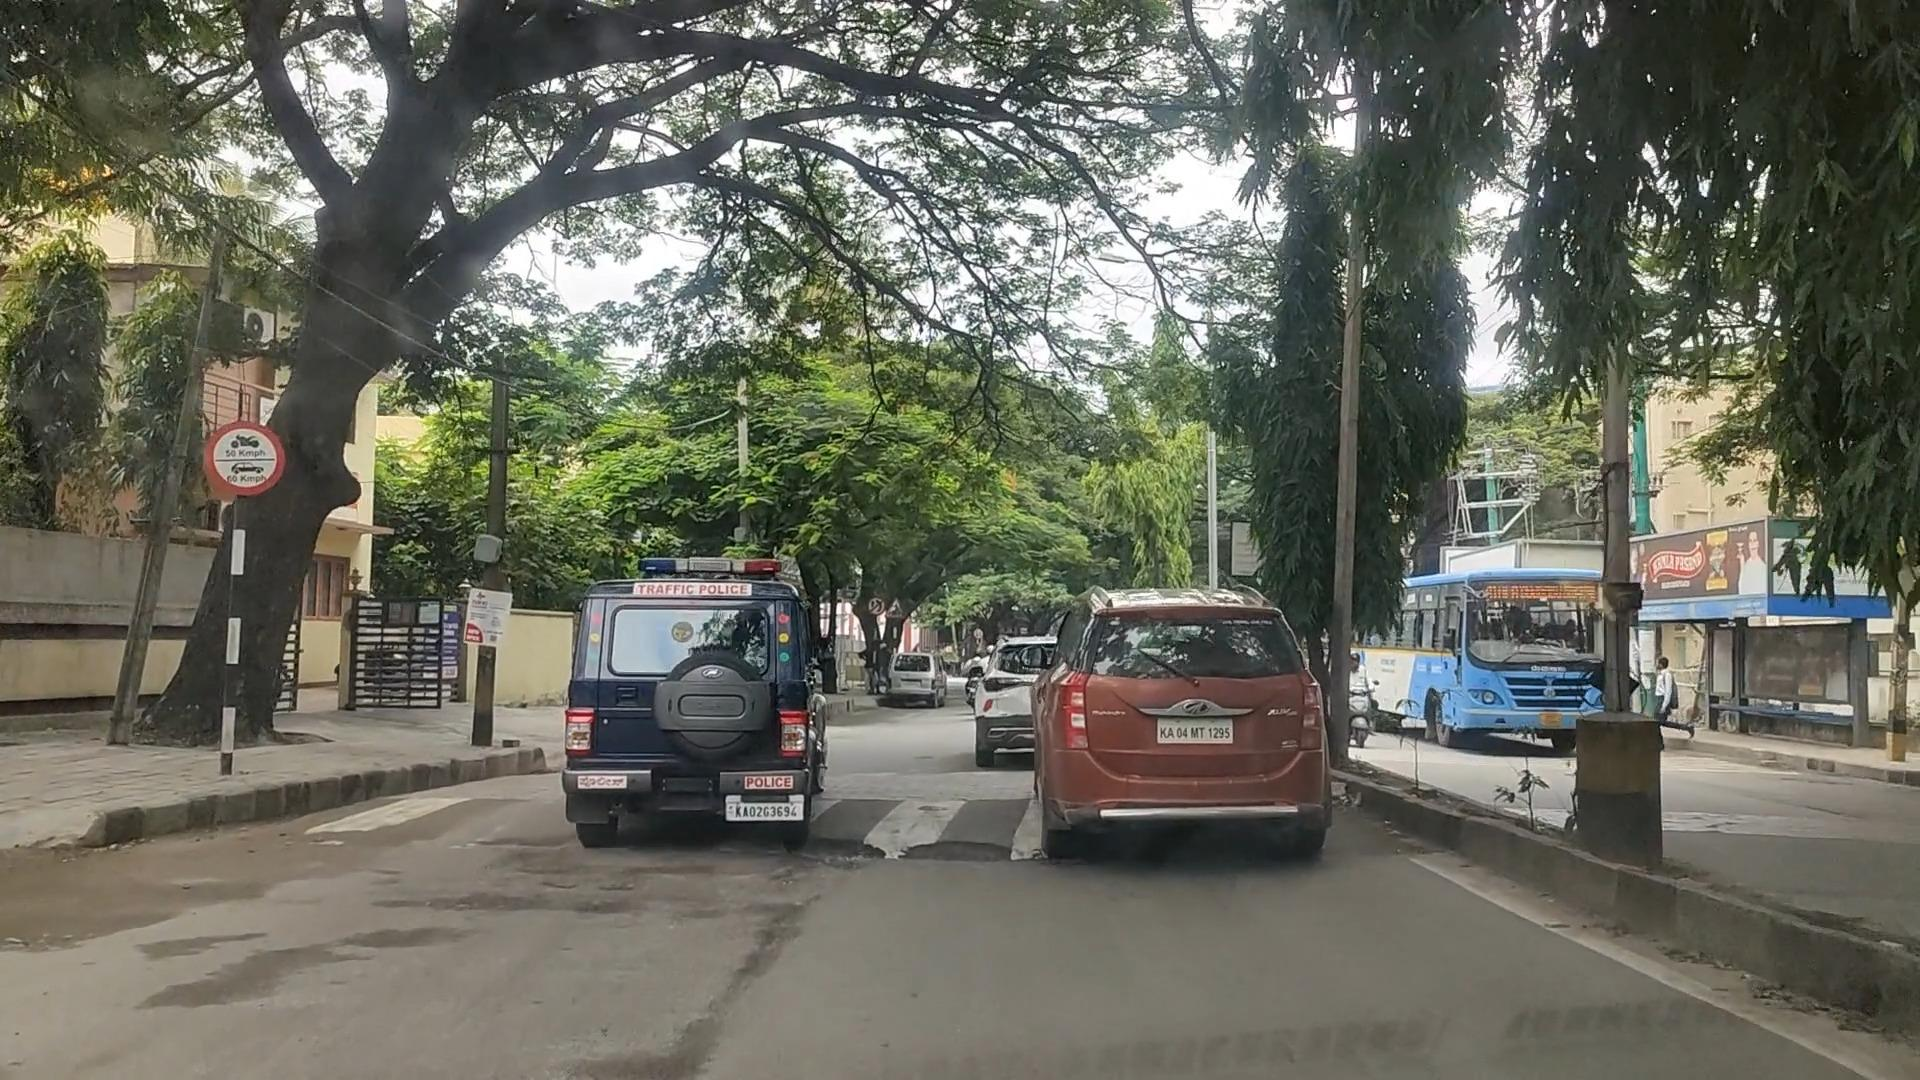LMV: (572, 563, 820, 823), (1063, 608, 1312, 843)
RoadDamages: (131, 927, 444, 1002), (485, 845, 698, 935), (628, 997, 750, 1080), (737, 893, 828, 980), (798, 832, 895, 873), (913, 843, 1018, 873)
